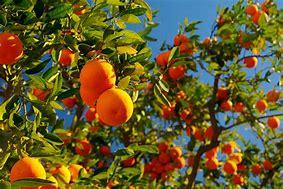orange: (79, 63, 137, 122), (93, 85, 142, 132), (14, 156, 46, 189), (0, 30, 24, 60)
